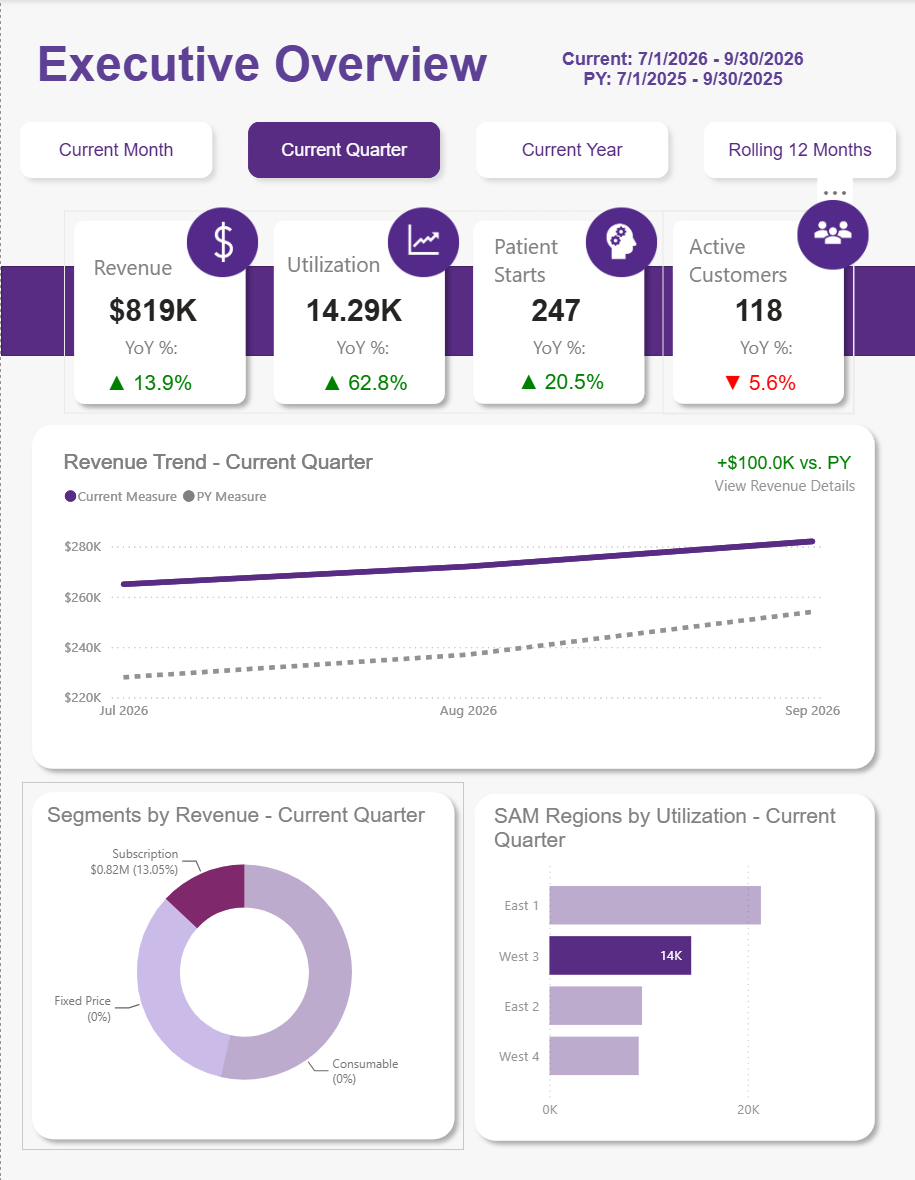

The page's visual inventory and layout, read from the dashboard file:
{"tool":"powerbi","page":{"name":"Executive Summary","canvas":[816,1056],"ordinal":0},"visuals":[{"type":"shape","box":[56.5,187.8,170.9,181.3],"z":0,"group":"g2"},{"type":"group","id":"g1","title":"Group 3","box":[18.4,697.4,394,327],"z":0},{"type":"shape","box":[18.4,697.4,394,327],"z":0,"group":"g1"},{"type":"shape","box":[412.4,698.7,374.3,327],"z":0,"group":"g3"},{"type":"donutChart","fields":{"Category":["Daily Revenue.Account Segment"],"Y":["Daily Revenue.Current Daily Measure"]},"box":[36.1,715.4,361.5,288.5],"z":250,"group":"g1"},{"type":"donutChart","fields":{"Category":["Monthly Revenue.Account Segment"],"Y":["Monthly Revenue.KPI Revenue - Total Period"]},"box":[34.6,713.5,363.3,291.6],"z":500,"group":"g1"},{"type":"shape","box":[234.6,187.8,170.5,181.3],"z":1000,"group":"g2"},{"type":"shape","box":[0,237.7,815.6,80.1],"z":1000},{"type":"advancedSlicerVisual","fields":{"Values":["Period Selection.Period"]},"box":[0,91.9,815.6,84.1],"z":2000},{"type":"shape","box":[412.3,187.8,170.5,181],"z":2000,"group":"g2"},{"type":"shape","box":[590,187.8,170.5,181],"z":3000,"group":"g2"},{"type":"shape","box":[18.4,370.4,768.4,324.4],"z":3000},{"type":"card","fields":{"Values":["Monthly Revenue.KPI Revenue - Total Period"]},"box":[70.8,246,128.1,60],"z":3500,"group":"g2"},{"type":"card","fields":{"Values":["Monthly Utz.KPI - Utilization Period"]},"box":[250.7,246,128,60],"z":3750,"group":"g2"},{"type":"card","fields":{"Values":["Patient Starts.KPI - Starts Period"]},"box":[430.4,246,128,60],"z":3875,"group":"g2"},{"type":"card","fields":{"Values":["Active Customers Monthly.KPI - Active Customers Period"]},"box":[610.1,246,128,60],"z":3937,"group":"g2"},{"type":"group","id":"g2","title":"Group 1","box":[56.5,187.8,704,181.3],"z":4000},{"type":"textbox","box":[78.2,219.6,88,40.7],"z":4000,"group":"g2"},{"type":"textbox","box":[249.8,217,98.7,36],"z":5000,"group":"g2"},{"type":"group","id":"g3","title":"Group 3","box":[412.4,698.7,374.3,327],"z":5000},{"type":"image","box":[134,179.9,127.4,72.2],"z":6000},{"type":"textbox","box":[434.1,201.2,90.6,78.8],"z":6000,"group":"g2"},{"type":"image","box":[312.6,179.9,127.4,72.2],"z":7000},{"type":"barChart","fields":{"Category":["Monthly Utz.Region"],"Y":["Monthly Utz.KPI - Utilization Period"]},"box":[433.4,717.7,333.7,289],"z":7000,"group":"g3"},{"type":"image","box":[488.6,179.9,127.4,72.2],"z":8000},{"type":"image","box":[677.7,173.4,127.4,72.2],"z":9000},{"type":"lineChart","fields":{"Category":["DimDate.DayOfMonth"],"Y":["Daily Revenue.Current Daily Measure","Daily Revenue.PY Daily Measure"]},"box":[53.9,400.6,701.4,249.6],"z":10000},{"type":"lineChart","fields":{"Category":["Monthly Revenue.MM/YYYY"],"Y":["Monthly Revenue.Current Measure","Monthly Revenue.PY Measure"]},"box":[51.3,402.6,701.4,249.6],"z":11000},{"type":"card","fields":{"Values":["Measure Table.Selected Period Date Range"]},"box":[478.2,28.2,257.4,68.3],"z":12000},{"type":"textbox","box":[105.9,293.2,59.2,47.7],"z":12000,"group":"g2"},{"type":"textbox","box":[294,293.2,59.2,47.7],"z":13000,"group":"g2"},{"type":"card","fields":{"Values":["Patient Starts.Starts - Total YoY Display"]},"box":[429.5,320.8,137,42],"z":13000},{"type":"textbox","box":[26.9,28.2,446.1,73.5],"z":14000},{"type":"textbox","box":[469.3,293.2,59.2,47.7],"z":14000,"group":"g2"},{"type":"textbox","box":[653.5,293.2,60.9,47.7],"z":15000,"group":"g2"},{"type":"lineChart","fields":{"Category":["Monthly Revenue.MM/YYYY"],"Y":["Monthly Revenue.Current Measure","Monthly Revenue.PY Measure"]},"box":[51.3,402.6,701.4,249.6],"z":15000},{"type":"card","fields":{"Values":["Monthly Revenue.Revenue Variance Formatted"]},"box":[628.2,400,138.5,29.5],"z":16000},{"type":"actionButton","title":"See Details","box":[620.5,419.2,153.8,20.5],"z":16001},{"type":"textbox","box":[607.5,201.2,140.5,65.7],"z":19500,"group":"g2"},{"type":"card","fields":{"Values":["Monthly Revenue.Revenue - Total YoY Display"]},"box":[63.6,320.8,137.9,42],"z":20000,"group":"g2"},{"type":"card","fields":{"Values":["Monthly Utz.Utz - Total YoY Display"]},"box":[255.1,320.8,137,42],"z":20500,"group":"g2"},{"type":"card","fields":{"Values":["Active Customers Monthly.Active Customers - Total YoY Display"]},"box":[606.2,320.8,137,42],"z":21500,"group":"g2"}]}

Visuals, with their boxes in screenshot pixels (x1, y1, x2, y2), scaled from the page's 816x1056 canvas onto the 915x1180 screenshot:
shape: <bbox>63, 210, 255, 412</bbox>
"Group 3" group: <bbox>21, 779, 462, 1145</bbox>
shape: <bbox>21, 779, 462, 1145</bbox>
shape: <bbox>462, 781, 882, 1146</bbox>
donutChart - Daily Revenue.Account Segment x Daily Revenue.Current Daily Measure: <bbox>40, 799, 446, 1122</bbox>
donutChart - Monthly Revenue.Account Segment x Monthly Revenue.KPI Revenue - Total Period: <bbox>39, 797, 446, 1123</bbox>
shape: <bbox>263, 210, 454, 412</bbox>
shape: <bbox>0, 266, 914, 355</bbox>
advancedSlicerVisual - Period Selection.Period: <bbox>0, 103, 914, 197</bbox>
shape: <bbox>462, 210, 654, 412</bbox>
shape: <bbox>662, 210, 853, 412</bbox>
shape: <bbox>21, 414, 882, 776</bbox>
card - Monthly Revenue.KPI Revenue - Total Period: <bbox>79, 275, 223, 342</bbox>
card - Monthly Utz.KPI - Utilization Period: <bbox>281, 275, 425, 342</bbox>
card - Patient Starts.KPI - Starts Period: <bbox>483, 275, 626, 342</bbox>
card - Active Customers Monthly.KPI - Active Customers Period: <bbox>684, 275, 828, 342</bbox>
"Group 1" group: <bbox>63, 210, 853, 412</bbox>
textbox: <bbox>88, 245, 186, 291</bbox>
textbox: <bbox>280, 242, 391, 283</bbox>
"Group 3" group: <bbox>462, 781, 882, 1146</bbox>
image: <bbox>150, 201, 293, 282</bbox>
textbox: <bbox>487, 225, 588, 313</bbox>
image: <bbox>351, 201, 493, 282</bbox>
barChart - Monthly Utz.Region x Monthly Utz.KPI - Utilization Period: <bbox>486, 802, 860, 1125</bbox>
image: <bbox>548, 201, 691, 282</bbox>
image: <bbox>760, 194, 903, 274</bbox>
lineChart - DimDate.DayOfMonth x Daily Revenue.Current Daily Measure: <bbox>60, 448, 847, 727</bbox>
lineChart - Monthly Revenue.MM/YYYY x Monthly Revenue.Current Measure: <bbox>58, 450, 844, 729</bbox>
card - Measure Table.Selected Period Date Range: <bbox>536, 32, 825, 108</bbox>
textbox: <bbox>119, 328, 185, 381</bbox>
textbox: <bbox>330, 328, 396, 381</bbox>
card - Patient Starts.Starts - Total YoY Display: <bbox>482, 358, 635, 405</bbox>
textbox: <bbox>30, 32, 530, 114</bbox>
textbox: <bbox>526, 328, 593, 381</bbox>
textbox: <bbox>733, 328, 801, 381</bbox>
lineChart - Monthly Revenue.MM/YYYY x Monthly Revenue.Current Measure: <bbox>58, 450, 844, 729</bbox>
card - Monthly Revenue.Revenue Variance Formatted: <bbox>704, 447, 860, 480</bbox>
"See Details" actionButton: <bbox>696, 468, 868, 491</bbox>
textbox: <bbox>681, 225, 839, 298</bbox>
card - Monthly Revenue.Revenue - Total YoY Display: <bbox>71, 358, 226, 405</bbox>
card - Monthly Utz.Utz - Total YoY Display: <bbox>286, 358, 440, 405</bbox>
card - Active Customers Monthly.Active Customers - Total YoY Display: <bbox>680, 358, 833, 405</bbox>
